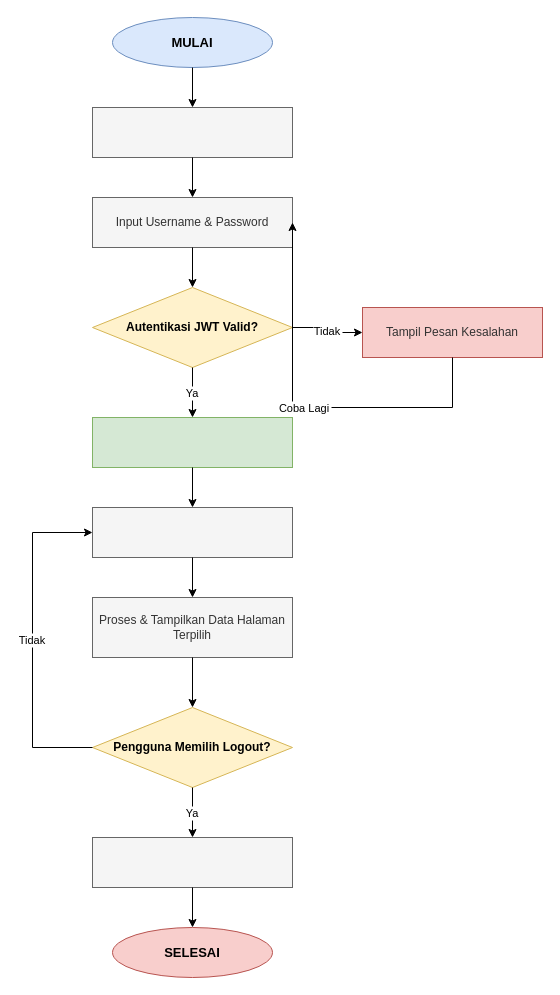
The diagram is 560 pixels wide and 995 high, and some of its shapes have lost their labels. The centre of each missing label's shape, as x and y in pixels:
"Hapus Token & Akhiri Sesi" goes at pixel 192 862.
"Pengguna Memilih Menu (Sidebar)" goes at pixel 192 532.
"Tampil Dashboard Utama" goes at pixel 192 442.
"Tampil Halaman Login" goes at pixel 192 132.
